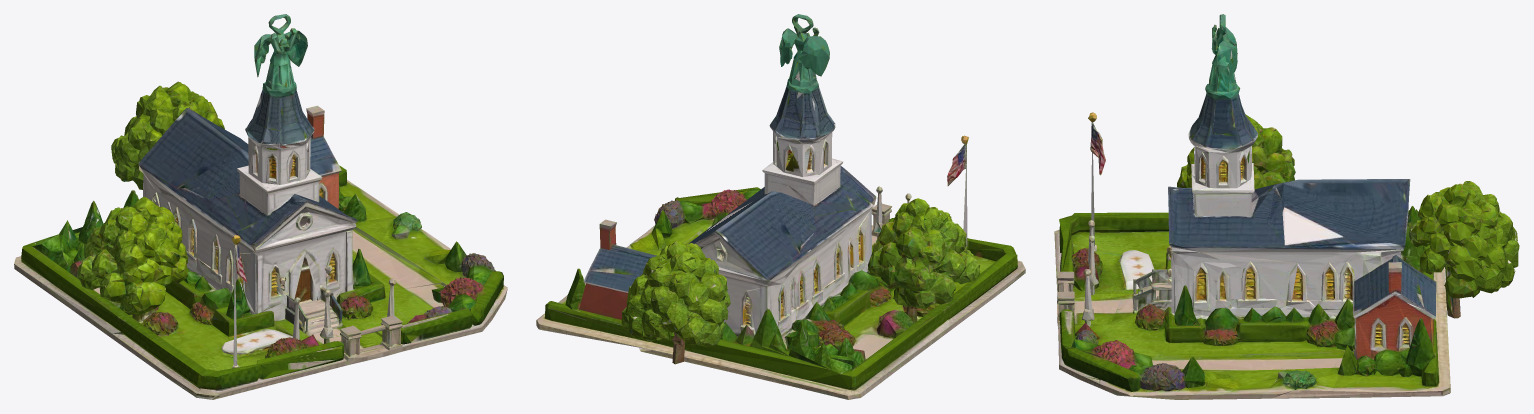
Rendered from town_center.glb.
The picture shows the model from 3 angles, left to right: view 1: azimuth 30°, elevation 25°; view 2: azimuth 150°, elevation 25°; view 3: azimuth 270°, elevation 25°; orthographic projection. The views are drawn at different scales.
Visible parts, largest first — view 1: normalize; view 2: normalize; view 3: normalize.
Boxes of the visible parts, x1=… form: normalize: x1=14, y1=14, x2=507, y2=399; normalize: x1=536, y1=14, x2=1025, y2=399; normalize: x1=1054, y1=14, x2=1519, y2=399.
Bounding box in the file's own units: 0.9195 × 0.6987 × 1.
1 material, 1 textured.
